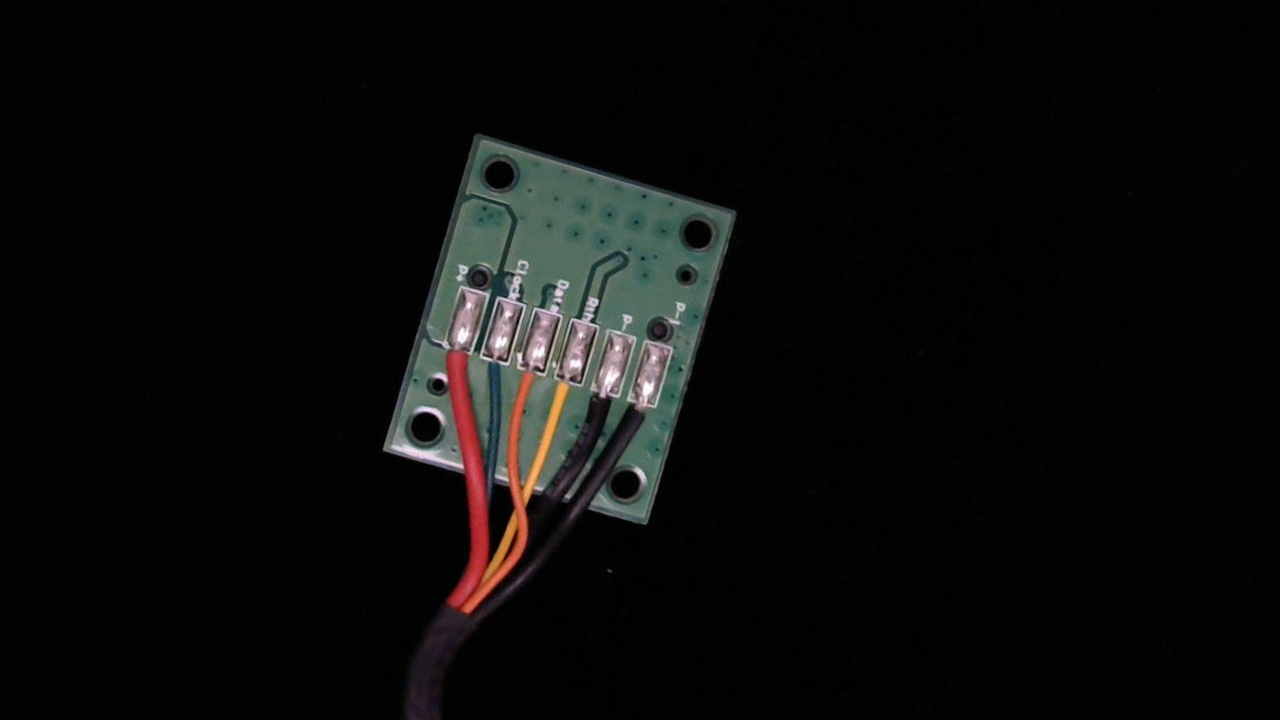Black: (570, 372, 625, 452)
Black1: (612, 386, 663, 460)
Green: (469, 338, 517, 403)
Orange: (500, 350, 552, 428)
Red: (425, 327, 478, 404)
Yellow: (534, 361, 588, 442)
